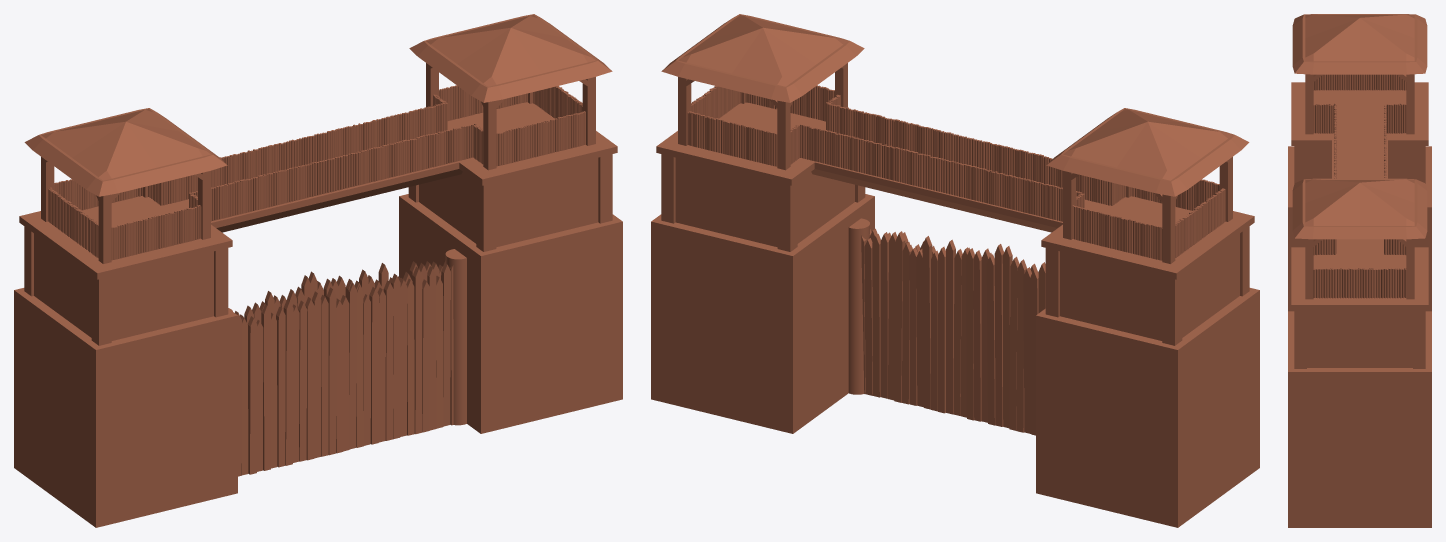
Rendered from i_double_gate.fbx.
3 renders of one model, left to right at view 1: azimuth 30°, elevation 25°; view 2: azimuth 150°, elevation 25°; view 3: azimuth 270°, elevation 25°, orthographic. The views are drawn at different scales.
Parts seen in each view (by area): view 1: i_double_gate, right door, left door; view 2: i_double_gate, right door, left door; view 3: i_double_gate.
Part boxes in pixels (<box>): i_double_gate: <box>14,14,622,527</box>; right door: <box>336,249,466,451</box>; left door: <box>228,271,343,476</box>; i_double_gate: <box>651,14,1259,527</box>; right door: <box>848,218,974,420</box>; left door: <box>973,244,1045,435</box>; i_double_gate: <box>1288,14,1431,527</box>.
Bounding box in the file's own units: 1329 × 866 × 358.
